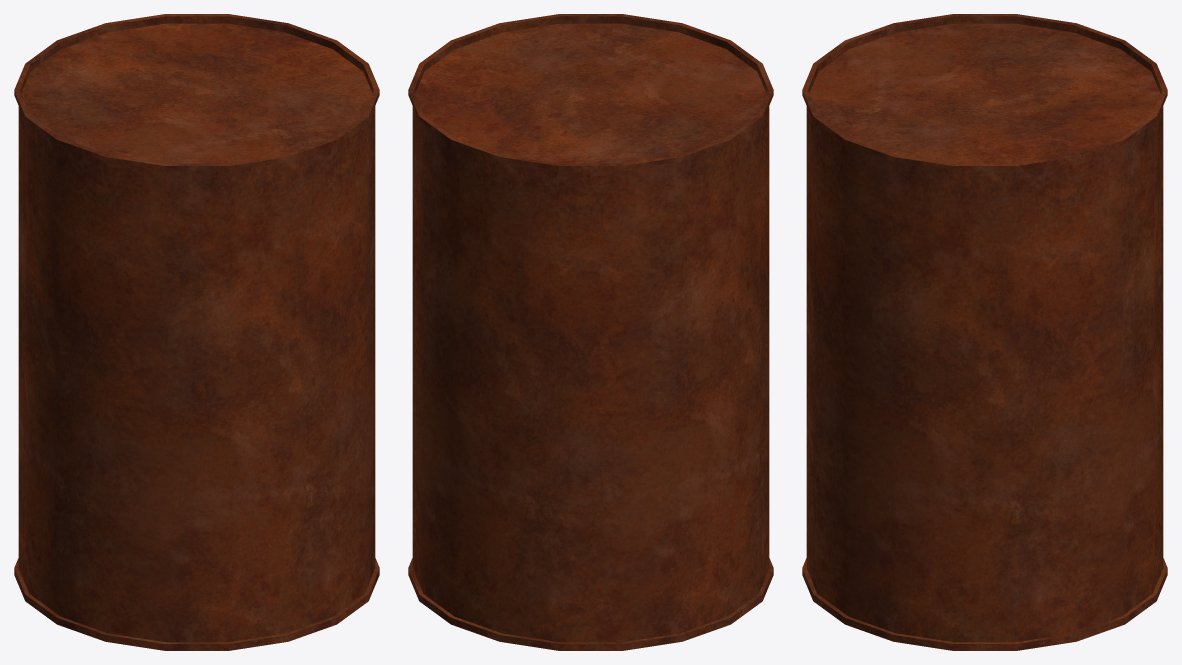
Rendered from rusty barrelFBX.fbx.
The picture shows the model from 3 angles, left to right: view 1: azimuth 30°, elevation 25°; view 2: azimuth 150°, elevation 25°; view 3: azimuth 270°, elevation 25°; orthographic projection.
Parts seen in each view (by area): view 1: rusty barrel; view 2: rusty barrel; view 3: rusty barrel.
Part boxes in pixels (<box>): rusty barrel: <box>14,14,379,650</box>; rusty barrel: <box>408,14,773,650</box>; rusty barrel: <box>802,14,1167,650</box>.
Bounding box in the file's own units: 55.56 × 82.59 × 56.42.
1 material, 1 textured.
